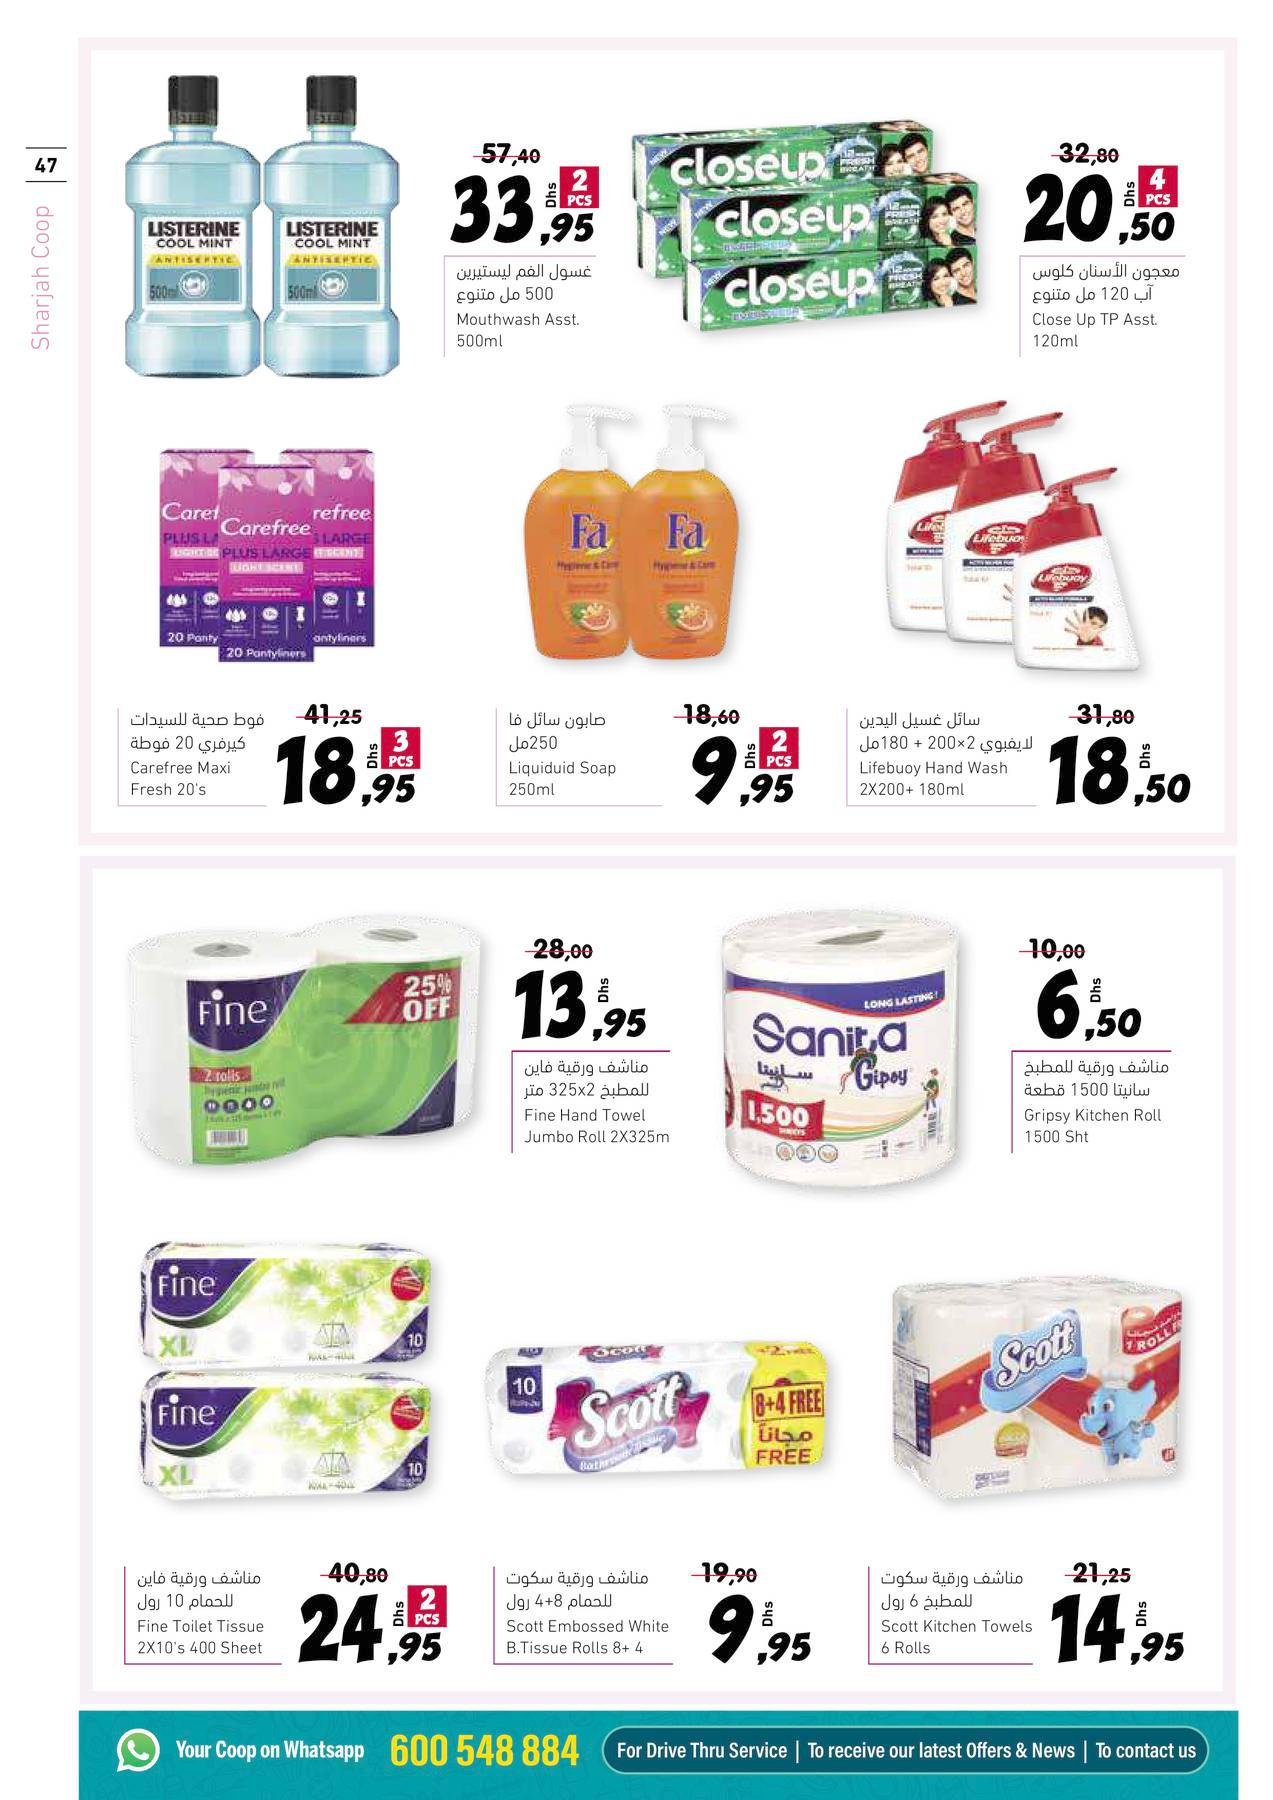text: (854, 702, 1050, 762), (495, 1558, 670, 1621), (128, 1562, 299, 1620), (851, 755, 1037, 807), (517, 1103, 690, 1153), (873, 1563, 1035, 1615), (1018, 1052, 1183, 1103), (448, 259, 613, 310), (496, 1615, 676, 1661), (1015, 1103, 1177, 1153), (517, 1056, 683, 1103), (871, 1613, 1037, 1660), (125, 705, 276, 755), (503, 701, 630, 759), (1026, 263, 1188, 308), (1024, 308, 1177, 354), (501, 757, 636, 807), (118, 757, 256, 804), (452, 307, 584, 354)
